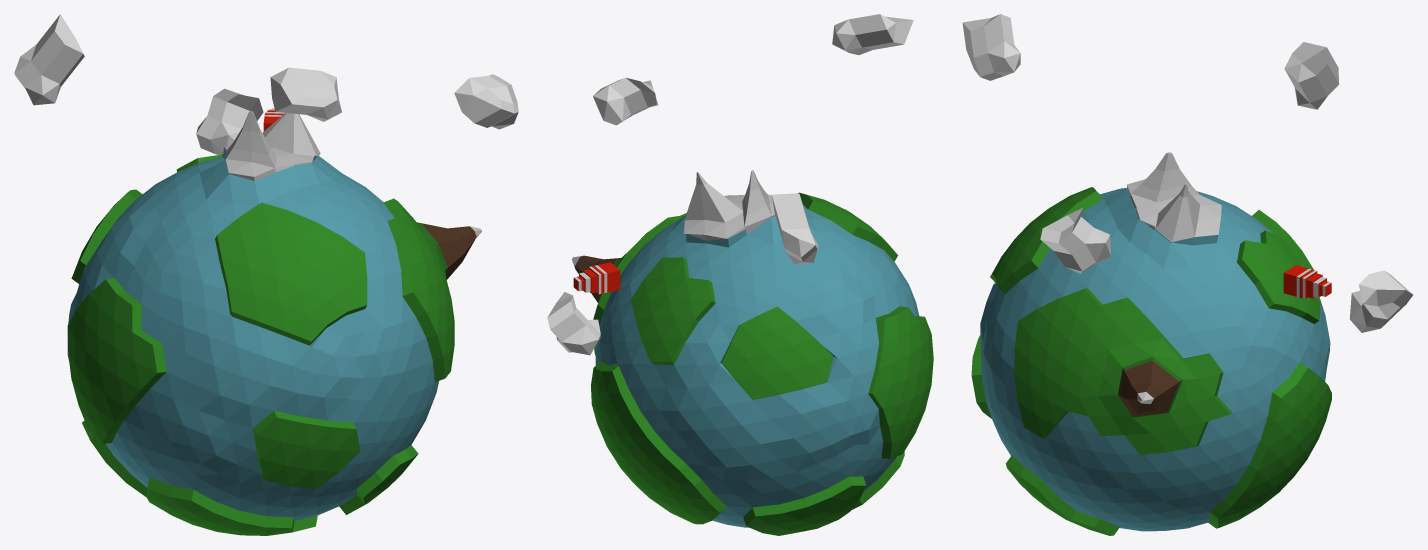
File: EarthGrouped.gltf
3 renders of one model, left to right at view 1: azimuth 30°, elevation 25°; view 2: azimuth 150°, elevation 25°; view 3: azimuth 270°, elevation 25°, orthographic. The views are drawn at different scales.
Visible parts, largest first — view 1: Earth, Icosphere.004_Icosphere.005, Icosphere.001_Icosphere.002, Icosphere.002_Icosphere.003, Icosphere.003_Icosphere.004; view 2: Earth, Icosphere.001_Icosphere.002, Icosphere.004_Icosphere.005, Icosphere.003_Icosphere.004, Icosphere.002_Icosphere.003, Cube.001_Cube.004; view 3: Earth, Icosphere.001_Icosphere.002, Icosphere.002_Icosphere.003, Icosphere.004_Icosphere.005, Icosphere.003_Icosphere.004, Cube.001_Cube.004.
Boxes of the visible parts, x1,y1,x2,y2 form: Earth: [67, 111, 481, 535]; Icosphere.004_Icosphere.005: [14, 14, 84, 105]; Icosphere.001_Icosphere.002: [270, 67, 341, 121]; Icosphere.002_Icosphere.003: [454, 74, 518, 129]; Icosphere.003_Icosphere.004: [196, 88, 263, 154]; Earth: [572, 170, 933, 535]; Icosphere.001_Icosphere.002: [832, 14, 913, 54]; Icosphere.004_Icosphere.005: [772, 193, 818, 264]; Icosphere.003_Icosphere.004: [547, 292, 601, 355]; Icosphere.002_Icosphere.003: [593, 77, 658, 125]; Cube.001_Cube.004: [573, 262, 620, 294]; Earth: [971, 152, 1331, 535]; Icosphere.001_Icosphere.002: [962, 14, 1020, 80]; Icosphere.002_Icosphere.003: [1040, 208, 1111, 273]; Icosphere.004_Icosphere.005: [1284, 42, 1338, 109]; Icosphere.003_Icosphere.004: [1350, 270, 1412, 332]; Cube.001_Cube.004: [1283, 265, 1331, 298].
Size of the model in its own units: 2.41 by 3.09 by 2.6.
